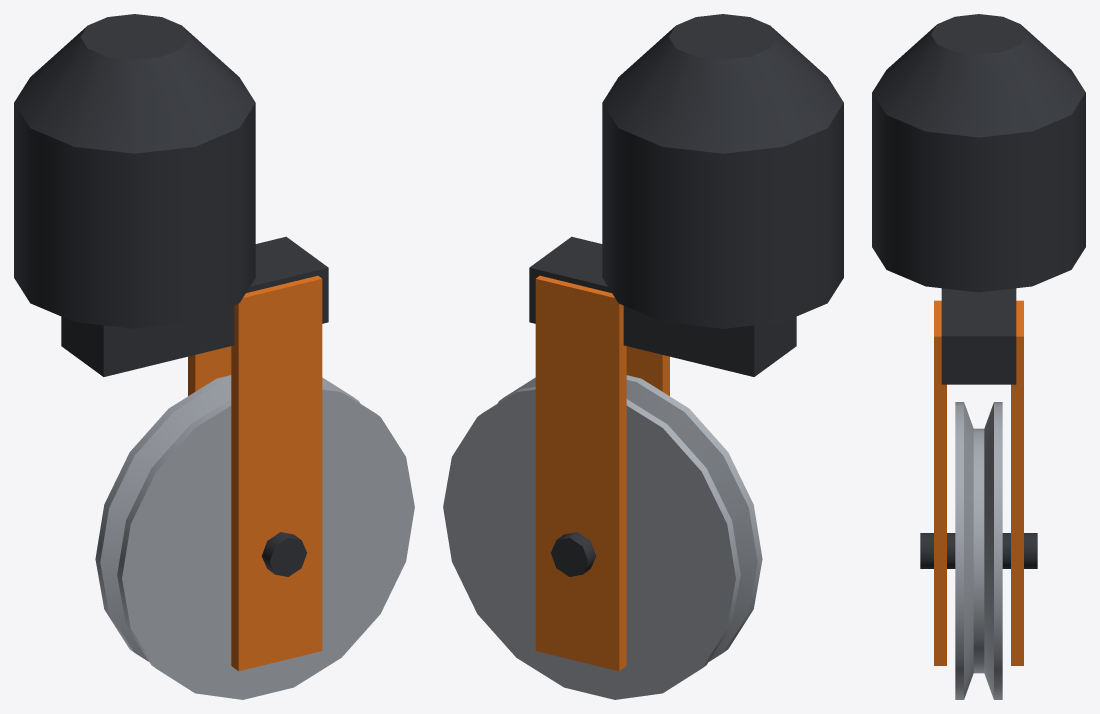
The model's file is RigHead.obj.
The picture shows the model from 3 angles, left to right: view 1: azimuth 30°, elevation 25°; view 2: azimuth 150°, elevation 25°; view 3: azimuth 270°, elevation 25°; orthographic projection. The views are drawn at different scales.
Parts seen in each view (by area): view 1: RigHead; view 2: RigHead; view 3: RigHead.
Part boxes in pixels (x1,y1,x2,y2): RigHead: (14, 14, 414, 699); RigHead: (443, 14, 843, 699); RigHead: (872, 14, 1085, 699).
Size of the model in its own units: 0.355 by 0.6179 by 0.2.
